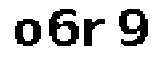6: (48, 6, 81, 47)
9: (114, 7, 152, 50)
o: (11, 16, 44, 49)
r: (81, 15, 105, 50)
